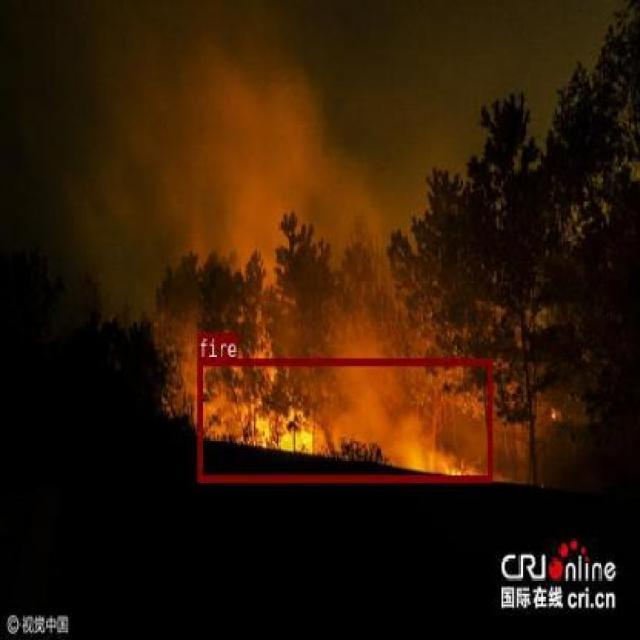Fire: (197, 356, 491, 482)
